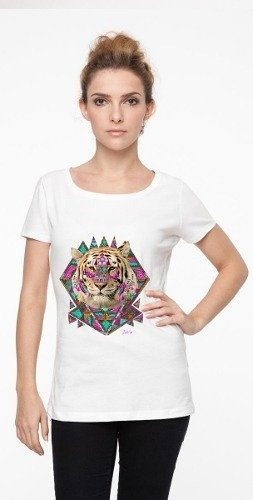Tigrew: (61, 238, 138, 311)
